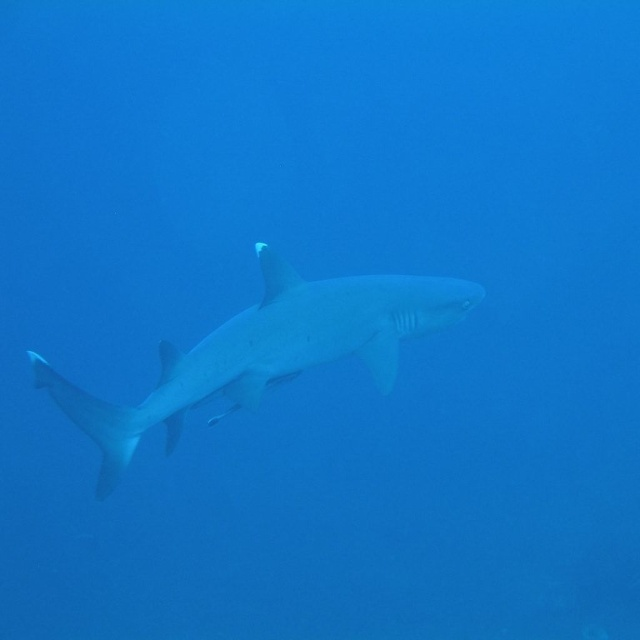Shark: (31, 245, 486, 498)
